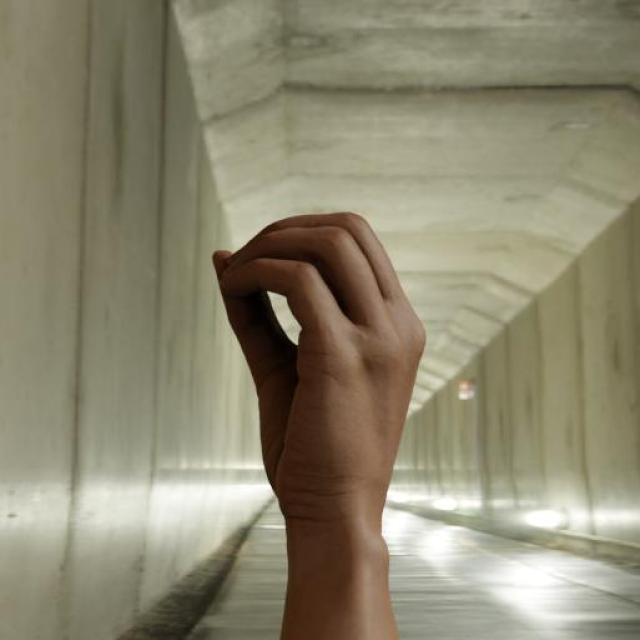O: (211, 207, 430, 519)
